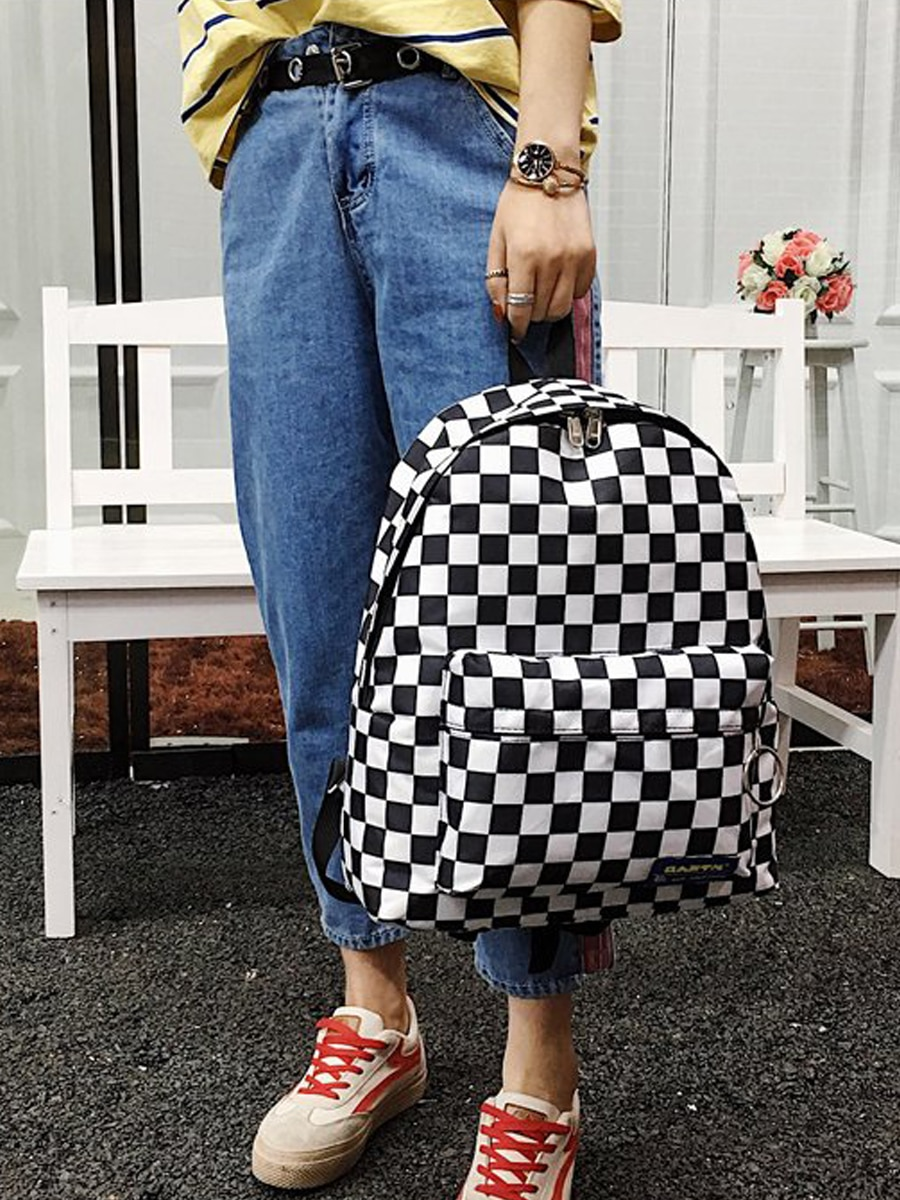Accessories|Rings: (485, 266, 510, 281), (505, 293, 535, 305)
Accessories|Watches: (508, 139, 586, 194)
Bottoms|Pants: (216, 74, 618, 995)
Men's Backpacks: (308, 327, 790, 930)
Shoes: (250, 991, 432, 1191), (454, 1085, 583, 1200)
